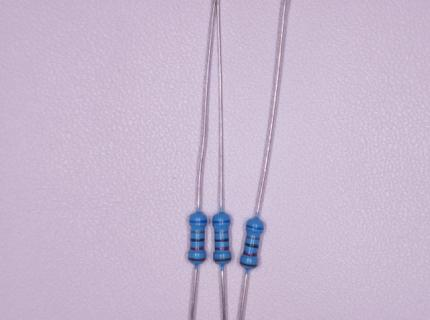Black band: (245, 242, 259, 249), (190, 238, 205, 243), (215, 238, 229, 242)
Blue band: (245, 224, 264, 231), (189, 220, 208, 224), (212, 220, 231, 223)
Brown band: (240, 261, 258, 269), (188, 257, 206, 262), (213, 258, 231, 262)
Grey band: (246, 235, 260, 241), (190, 230, 205, 234), (214, 230, 229, 234)
Red band: (242, 251, 257, 258), (189, 246, 204, 251), (214, 246, 229, 250)
